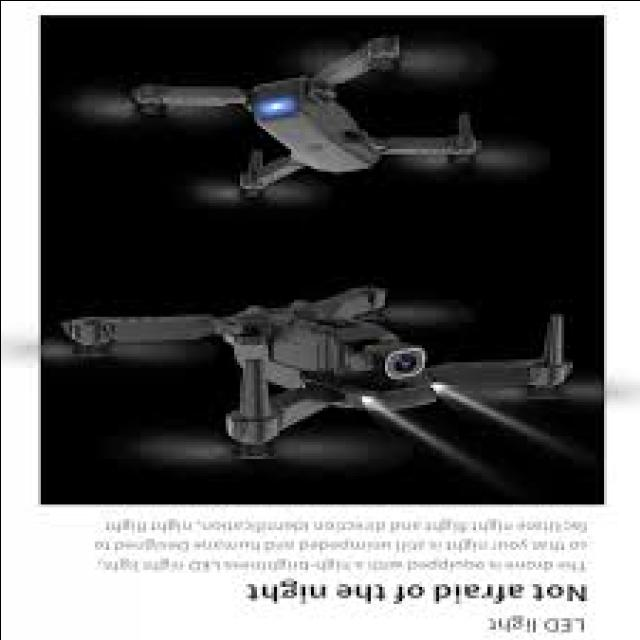drone: (42, 259, 606, 508), (73, 15, 546, 218)
